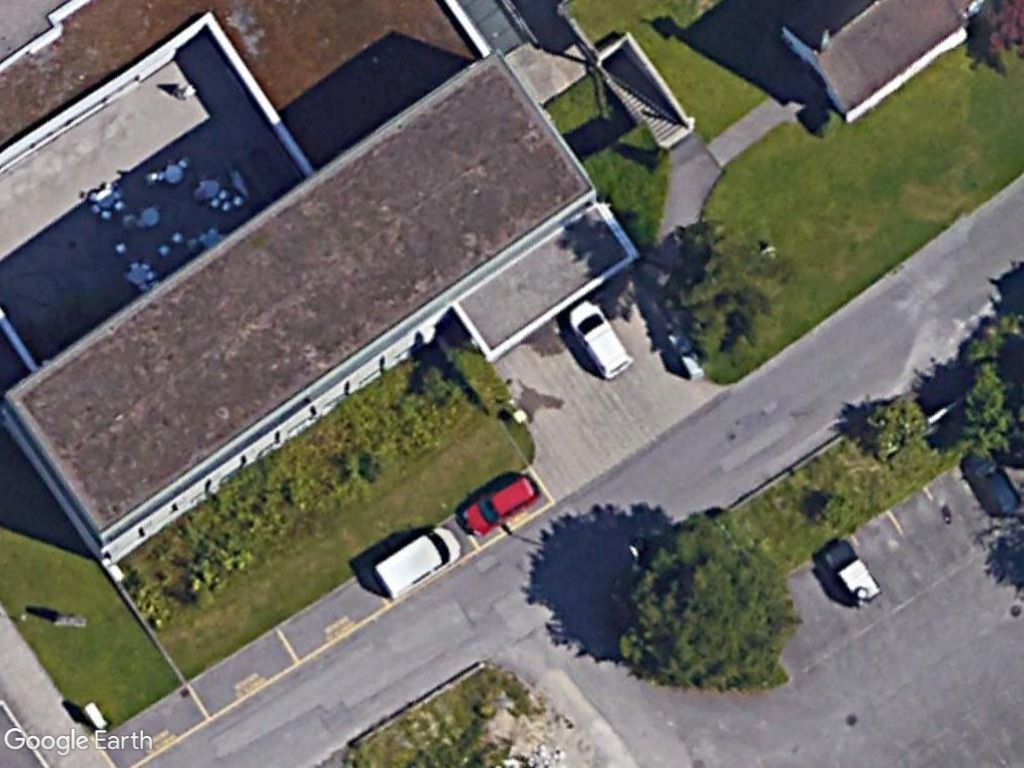car: (562, 299, 634, 384), (459, 472, 542, 539)
van: (373, 521, 463, 603)
